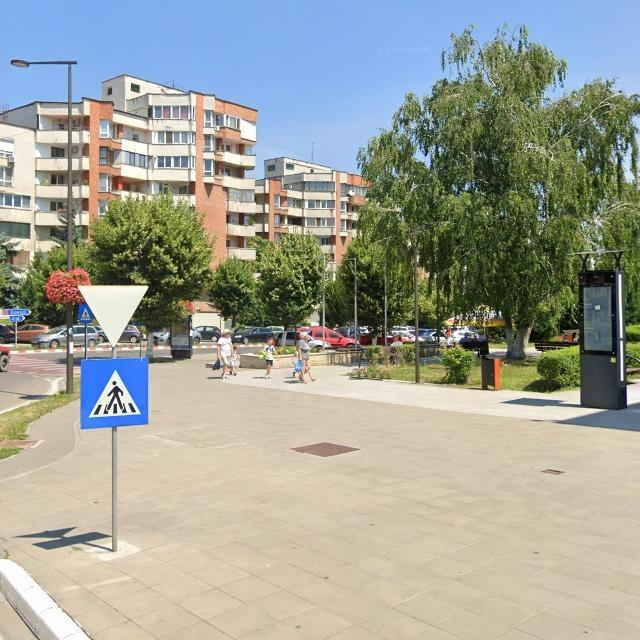info_crosswalk: (79, 356, 150, 429), (76, 302, 96, 324)
prio_give_way: (79, 284, 149, 348)
